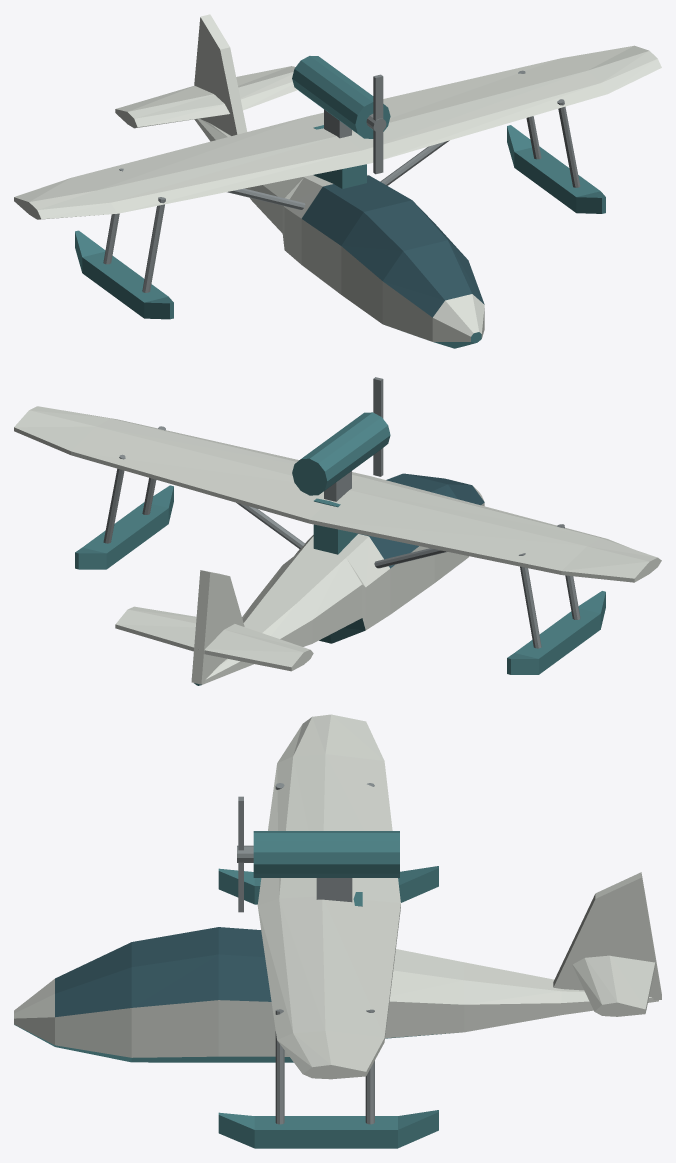
3 views of the same model, one above another, from view 1: azimuth 30°, elevation 25°; view 2: azimuth 150°, elevation 25°; view 3: azimuth 270°, elevation 25° (orthographic). The views are drawn at different scales.
Visible parts, largest first — view 1: ContinuousHighMainWing, ContinuousSteppedBoatHull, RearLowHorizontalTail, CompleteRaisedEngineNacelle, SweptDorsalTailFin, LeftOutriggerFloat, RightOutriggerFloat, FixedVerticalTwoBladePropeller, HullToHighWingPedestal, LeftForeFloatStrut, RightForeFloatStrut, LeftWingBrace (+1 smaller); view 2: ContinuousHighMainWing, ContinuousSteppedBoatHull, RearLowHorizontalTail, CompleteRaisedEngineNacelle, LeftOutriggerFloat, SweptDorsalTailFin, RightOutriggerFloat, HullToHighWingPedestal, LeftAftFloatStrut, FixedVerticalTwoBladePropeller, RightAftFloatStrut, RightWingBrace (+2 smaller); view 3: ContinuousSteppedBoatHull, ContinuousHighMainWing, CompleteRaisedEngineNacelle, RightOutriggerFloat, SweptDorsalTailFin, RearLowHorizontalTail, LeftOutriggerFloat, RightForeFloatStrut, AboveWingEnginePylon, FixedVerticalTwoBladePropeller.
Boxes of the visible parts, x1,y1,x2,y2 form: ContinuousHighMainWing: (14,45,661,219); ContinuousSteppedBoatHull: (194,118,484,348); RearLowHorizontalTail: (115,66,297,128); CompleteRaisedEngineNacelle: (292,56,390,138); SweptDorsalTailFin: (194,14,247,135); LeftOutriggerFloat: (75,230,173,319); RightOutriggerFloat: (507,125,605,213); FixedVerticalTwoBladePropeller: (373,74,383,174); HullToHighWingPedestal: (313,125,366,188); LeftForeFloatStrut: (142,197,165,292); RightForeFloatStrut: (557,99,580,187); LeftWingBrace: (227,188,305,209); ContinuousHighMainWing: (14,406,661,582); ContinuousSteppedBoatHull: (194,473,484,685); RearLowHorizontalTail: (115,606,313,671); CompleteRaisedEngineNacelle: (292,412,390,495); LeftOutriggerFloat: (507,591,605,674); SweptDorsalTailFin: (191,570,244,684); RightOutriggerFloat: (75,485,173,569); HullToHighWingPedestal: (313,498,357,554); LeftAftFloatStrut: (518,553,541,648); FixedVerticalTwoBladePropeller: (373,377,383,476); RightAftFloatStrut: (103,454,125,543); RightWingBrace: (236,502,304,548); ContinuousSteppedBoatHull: (14,927,658,1062); ContinuousHighMainWing: (257,714,400,1079); CompleteRaisedEngineNacelle: (253,831,399,877); RightOutriggerFloat: (218,1110,438,1148); SweptDorsalTailFin: (553,872,661,999); RearLowHorizontalTail: (572,955,655,1016); LeftOutriggerFloat: (218,866,438,904); RightForeFloatStrut: (275,1009,284,1124); AboveWingEnginePylon: (316,878,352,902); FixedVerticalTwoBladePropeller: (238,796,243,912).
Size of the model in its own units: 8.1 by 2.8 by 6.33.
